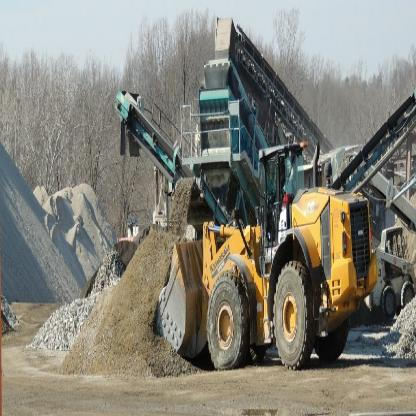bull_dozer/loader/grader: (154, 134, 377, 387)
